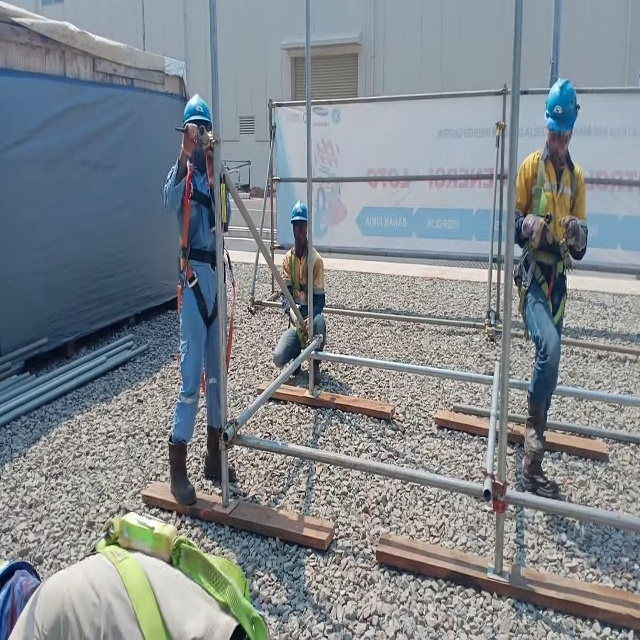Arnes_seguridad: (79, 516, 274, 640), (176, 157, 237, 400), (513, 140, 576, 336), (290, 245, 308, 348)
